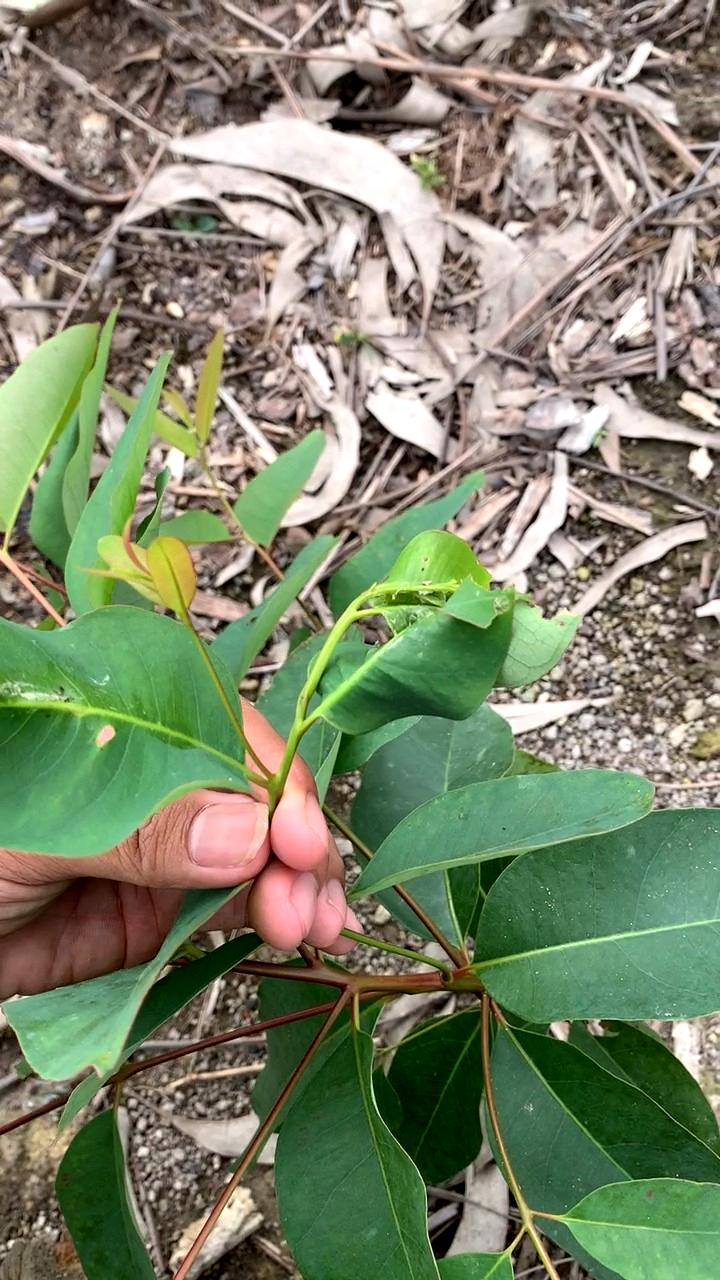Leaf Roller - Leaf: (291, 526, 577, 727)
